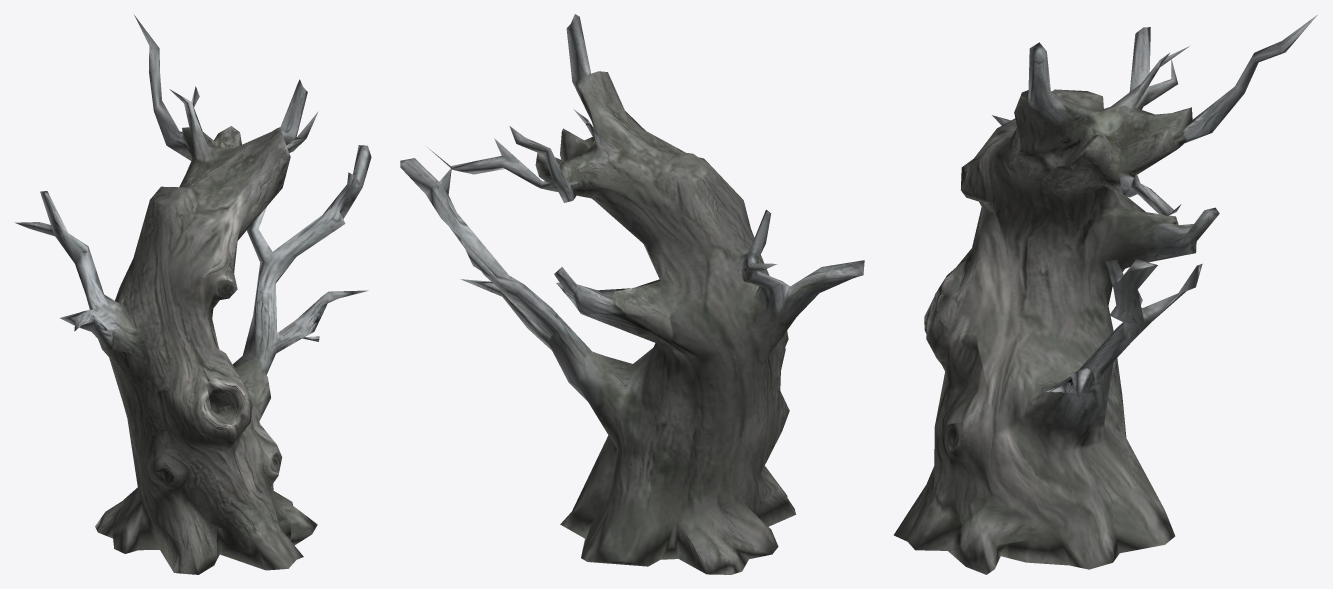
The model's file is t-arbre-semis.glb.
3 renders of one model, left to right at view 1: azimuth 30°, elevation 25°; view 2: azimuth 150°, elevation 25°; view 3: azimuth 270°, elevation 25°, orthographic. The views are drawn at different scales.
Parts seen in each view (by area): view 1: t-arbre-semis; view 2: t-arbre-semis; view 3: t-arbre-semis.
Boxes of the visible parts, x1,y1,x2,y2 form: t-arbre-semis: [15, 15, 371, 574]; t-arbre-semis: [400, 14, 864, 574]; t-arbre-semis: [894, 15, 1317, 574].
Bounding box in the file's own units: 1.73 × 2 × 1.43.
Materials: 1 (1 with a texture image).
